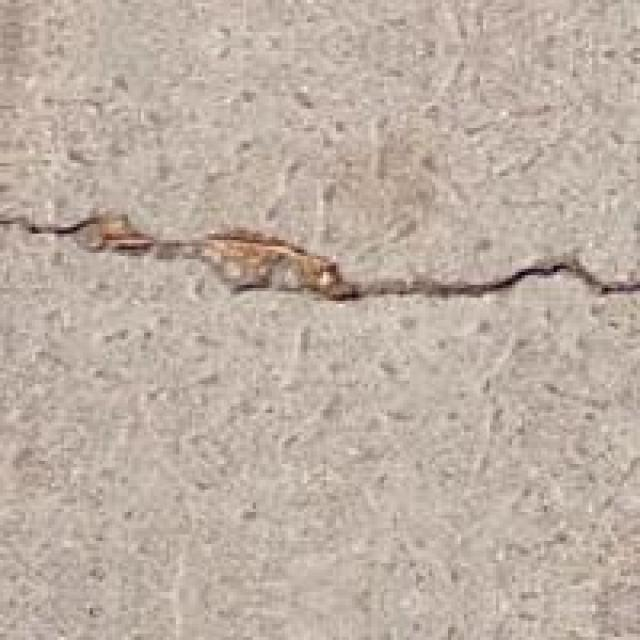crack: (0, 172, 640, 352)
